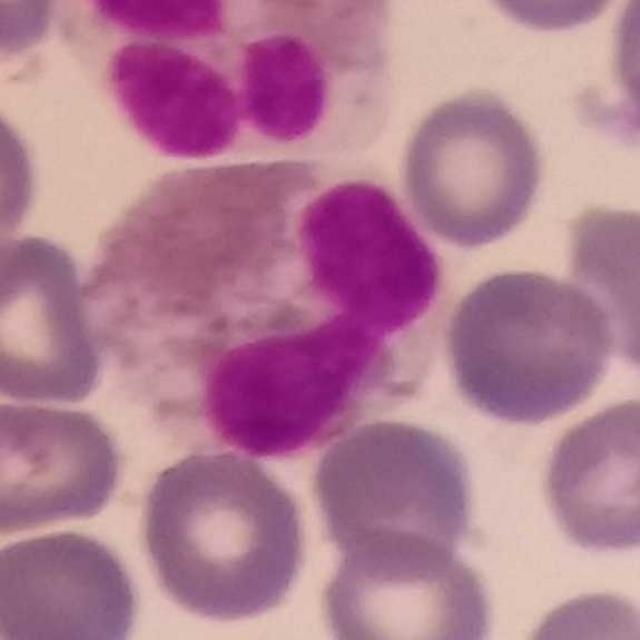eosino: (80, 160, 455, 477), (58, 0, 416, 169)
